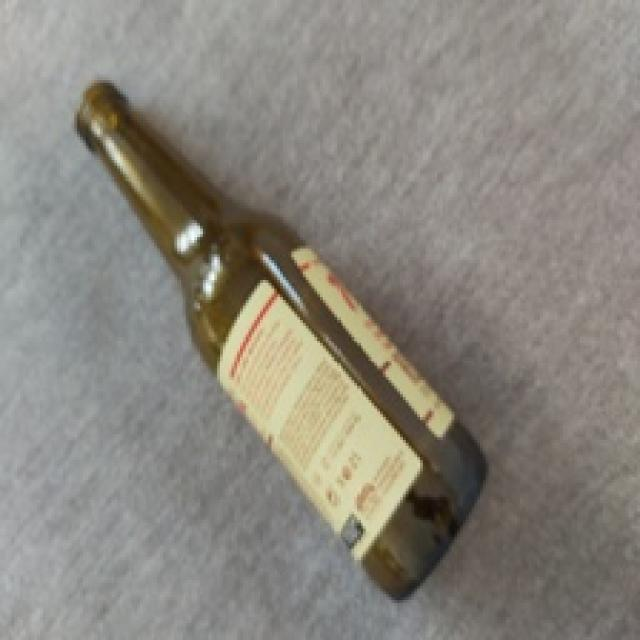garbage: (58, 56, 548, 596)
